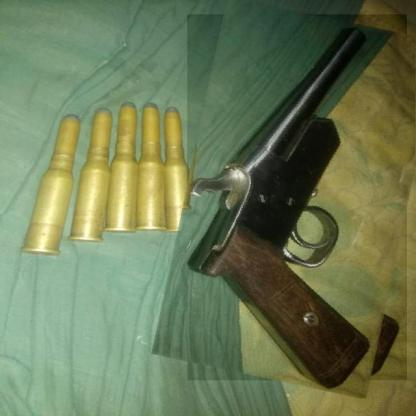handgun: (169, 4, 416, 390)
